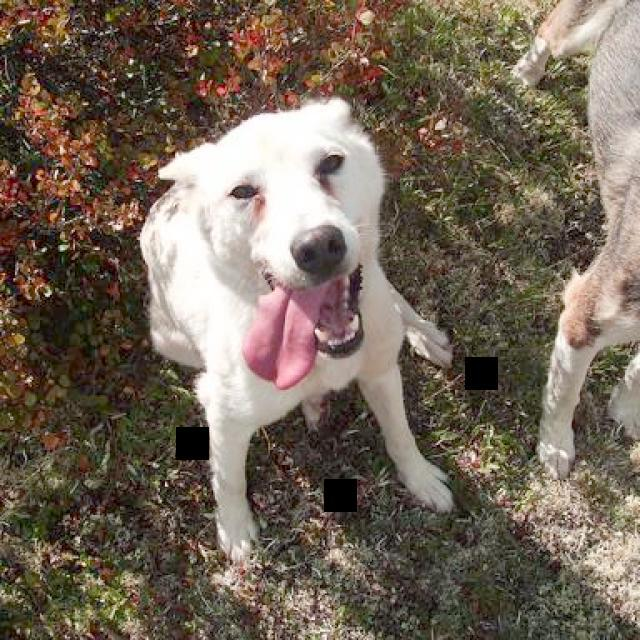adult_dog: (140, 86, 461, 561), (510, 1, 640, 486)
